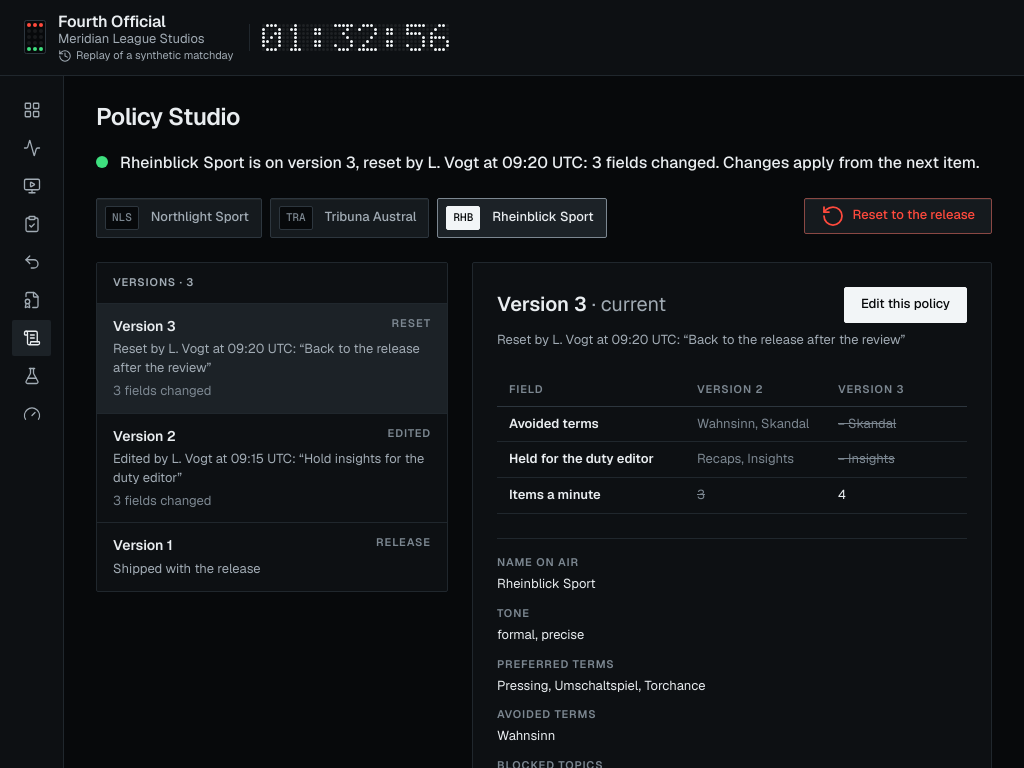
PolicyStudio › shows the new current version once a reset lands, whatever was selected
Expected: the list named "Versions" is shown, [97,304,447,590]
Click the button "Version 2".
click(272, 468)  # box [97,414,447,522]
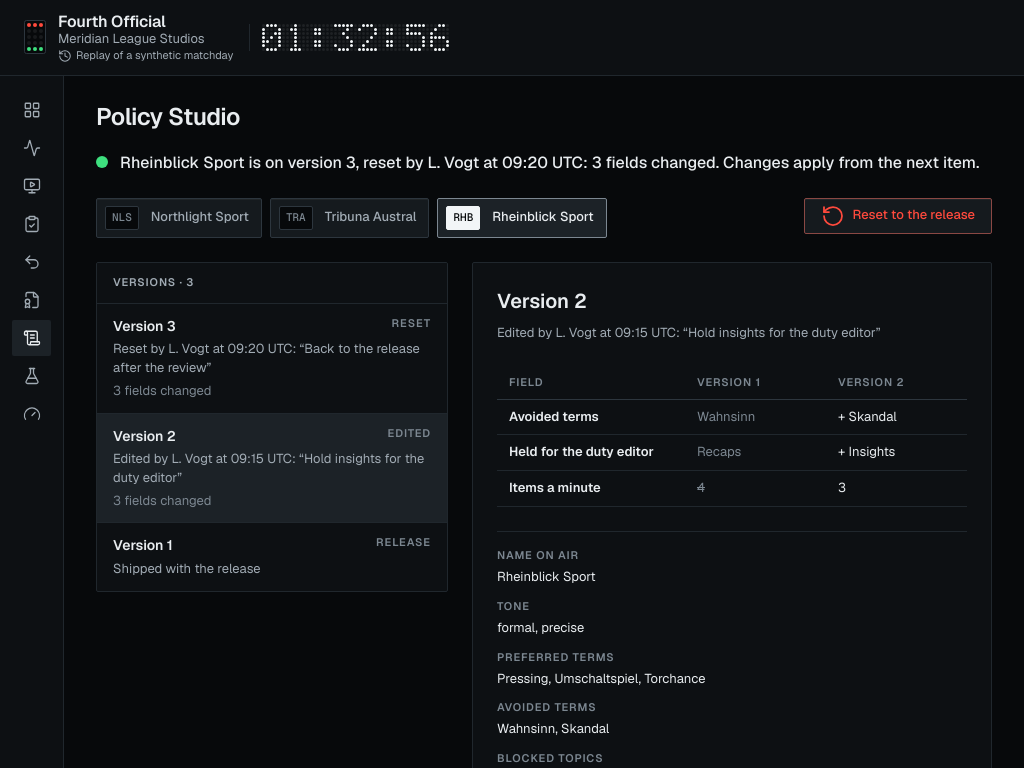
Click the button "Reset to the release".
click(898, 216)  # box [804,198,992,234]
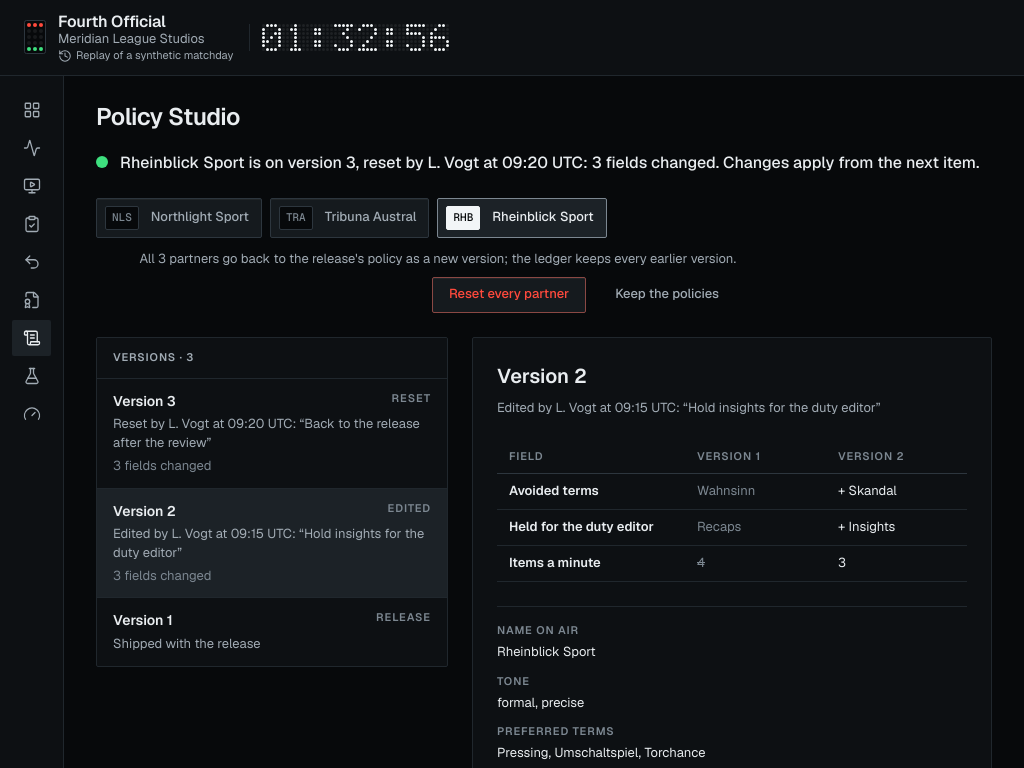
Click the button "Reset every partner".
click(509, 295)  # box [432,277,586,313]
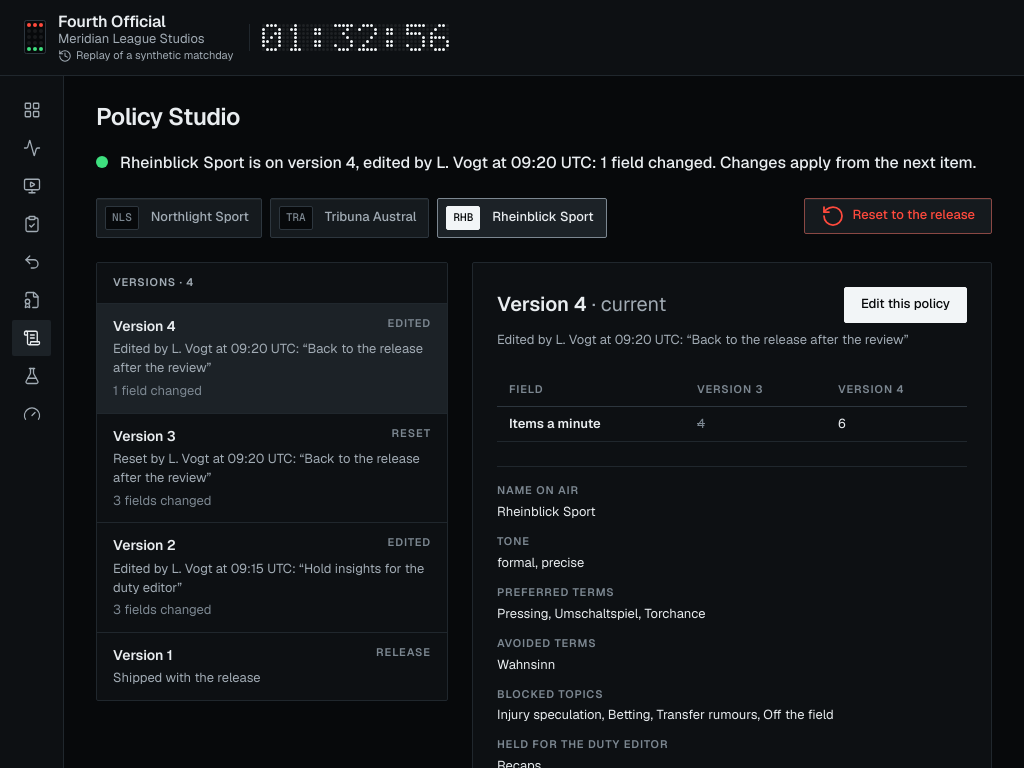
Expected: the heading "Version 4 · current" is shown, [497,290,666,319]
